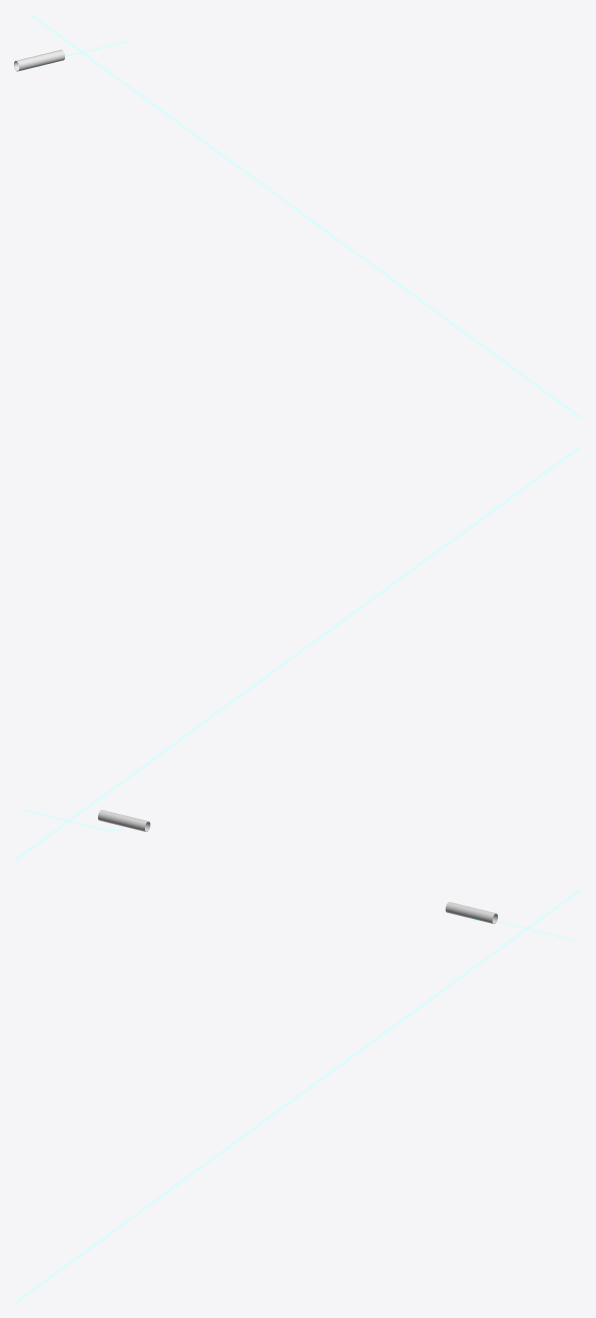
The picture shows the model from 3 angles, top to bottom: view 1: azimuth 30°, elevation 25°; view 2: azimuth 150°, elevation 25°; view 3: azimuth 330°, elevation 25°; orthographic projection. The views are drawn at different scales.
Parts seen in each view (by area): view 1: 扫描2, 扫描1, 管道; view 2: 扫描2, 扫描1, 管道; view 3: 扫描2, 扫描1, 管道.
Boxes of the visible parts, x1,y1,x2,y2 form: 扫描2: (31,14,581,417); 扫描1: (29,14,579,417); 管道: (14,49,64,71); 扫描2: (14,446,579,859); 扫描1: (16,447,581,860); 管道: (98,810,150,831); 扫描2: (16,890,581,1303); 扫描1: (14,889,579,1302); 管道: (445,902,497,923).
Bounding box in the file's own units: 1245 × 128 × 10087.
